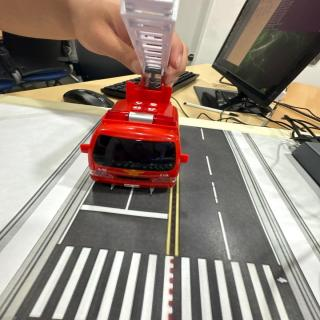Fire_truck: (81, 82, 188, 194)
